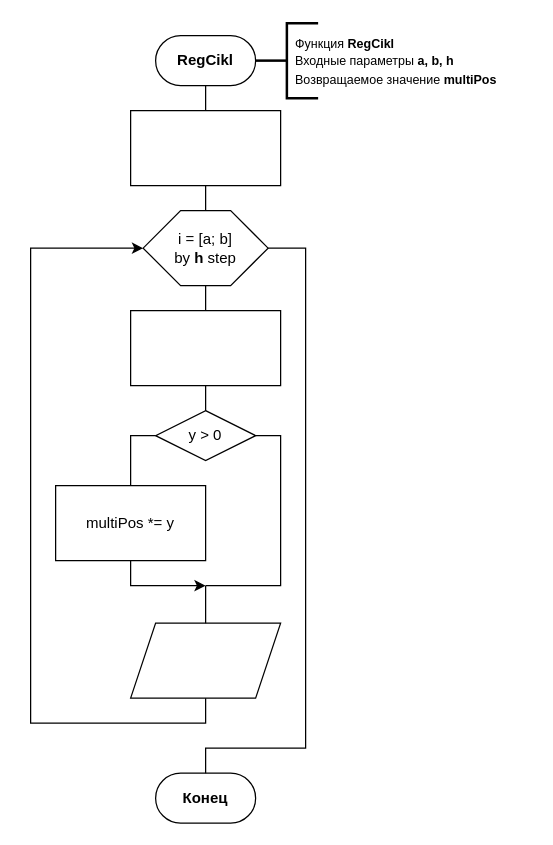
Image size: 553x845. Some labels were removed from this diagram. The shapes that lost their labels are listed below. From the top down, each one's centre as x and y in pixels, then its label:
At (205,147): "multiPos = 1".
At (205,347): "y = func(i)".
At (205,660): "Вывод x, y".
